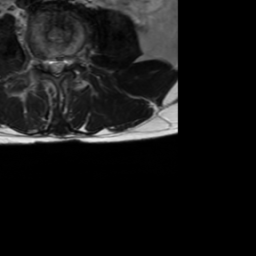CCS_normal: (52, 50, 59, 82)
LFS_normal: (66, 48, 74, 73)
LLS_stenosis: (59, 51, 66, 76)
RFS_stenosis: (36, 50, 45, 76)
RLS_normal: (45, 51, 52, 76)
